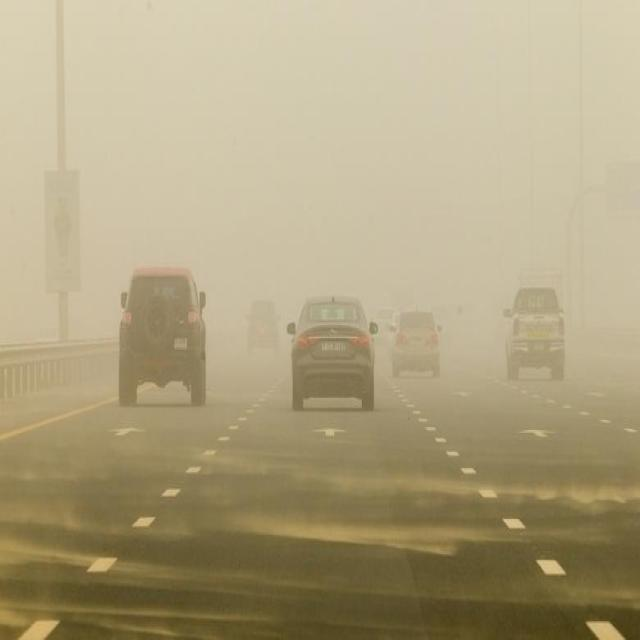Car: (104, 248, 211, 406), (288, 296, 378, 402), (497, 280, 575, 376), (235, 278, 285, 361), (390, 303, 440, 379)
